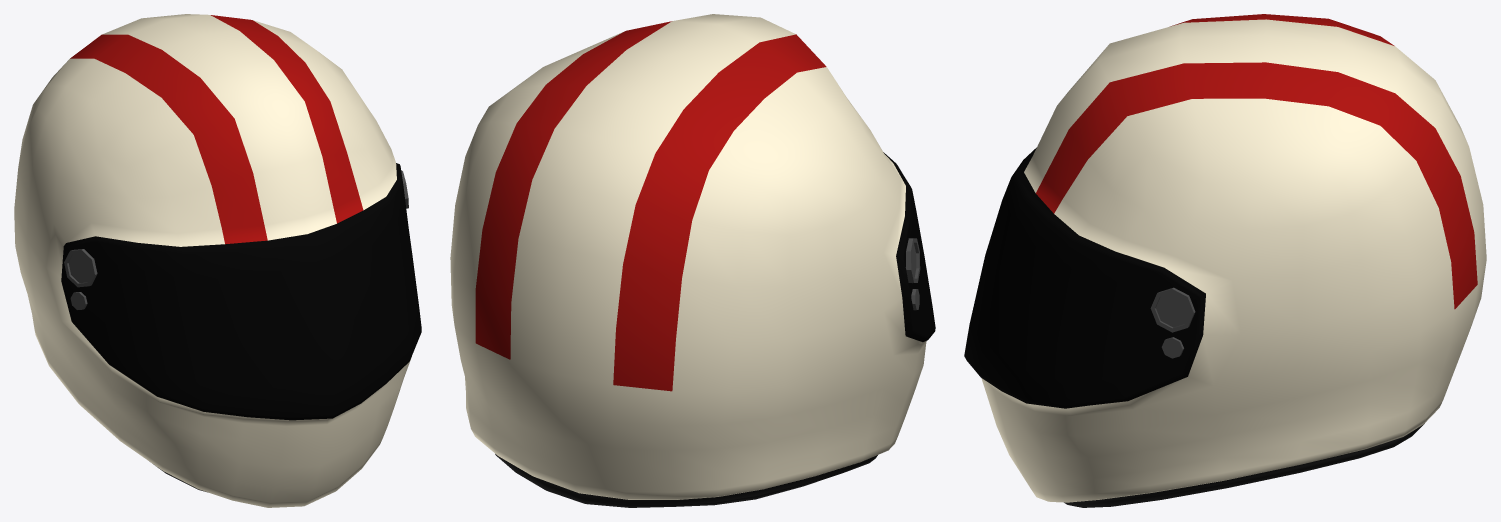
Rendered from helmet.fbx.
The picture shows the model from 3 angles, left to right: view 1: azimuth 30°, elevation 25°; view 2: azimuth 150°, elevation 25°; view 3: azimuth 270°, elevation 25°; orthographic projection. The views are drawn at different scales.
Visible parts, largest first — view 1: Cube, Cylinder; view 2: Cube, Cylinder; view 3: Cube, Cylinder.
Part boxes in pixels (box(x1,y1,x2,y2)): Cube: box(14, 14, 421, 507); Cylinder: box(64, 170, 408, 287); Cube: box(450, 14, 935, 507); Cylinder: box(905, 238, 920, 282); Cube: box(964, 14, 1486, 507); Cylinder: box(1150, 287, 1195, 332).
Size of the model in its own units: 89.42 by 100 by 105.
